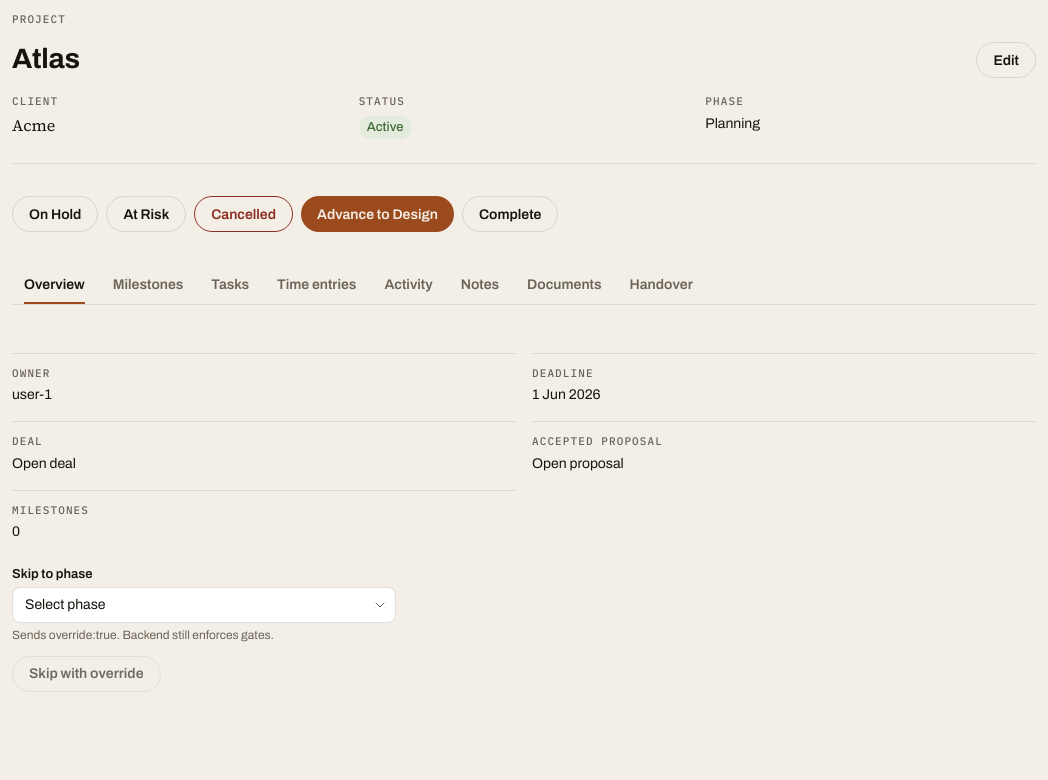
Project detail › surfaces a failed phase gate from the backend
Click the button "Advance to Design" at (378, 214), box 301,196 -> 454,232
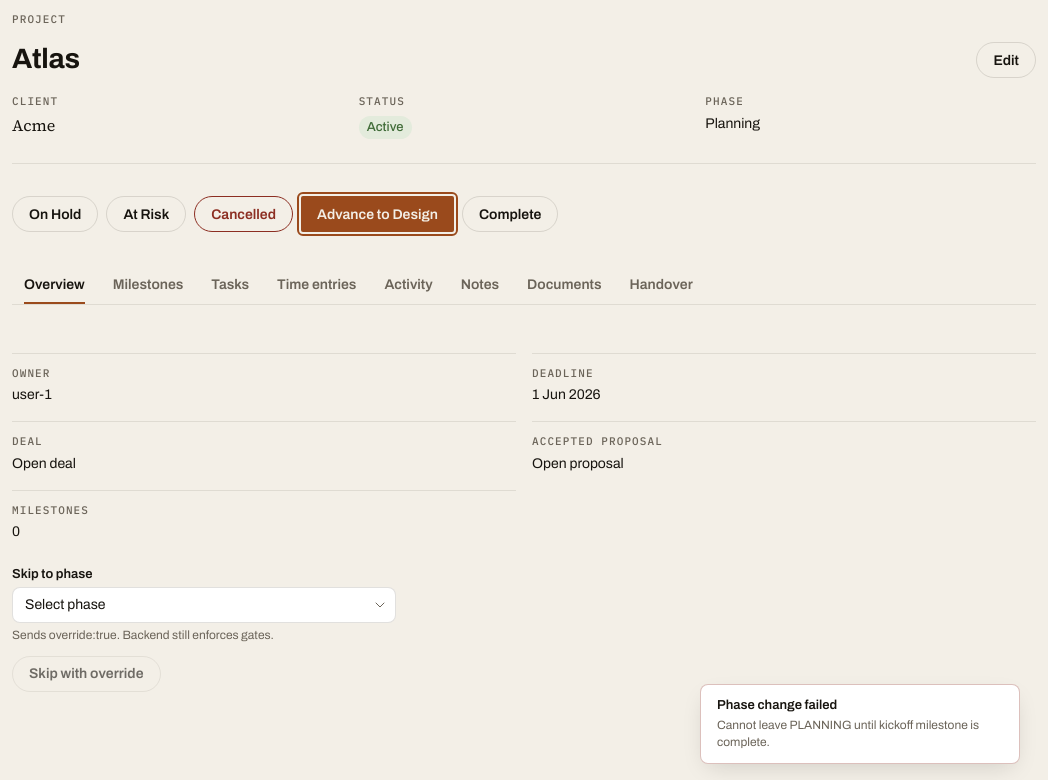
Expected: the text "Cannot leave PLANNING until kickoff milestone is complete." is shown, 717,717 -> 1003,751
